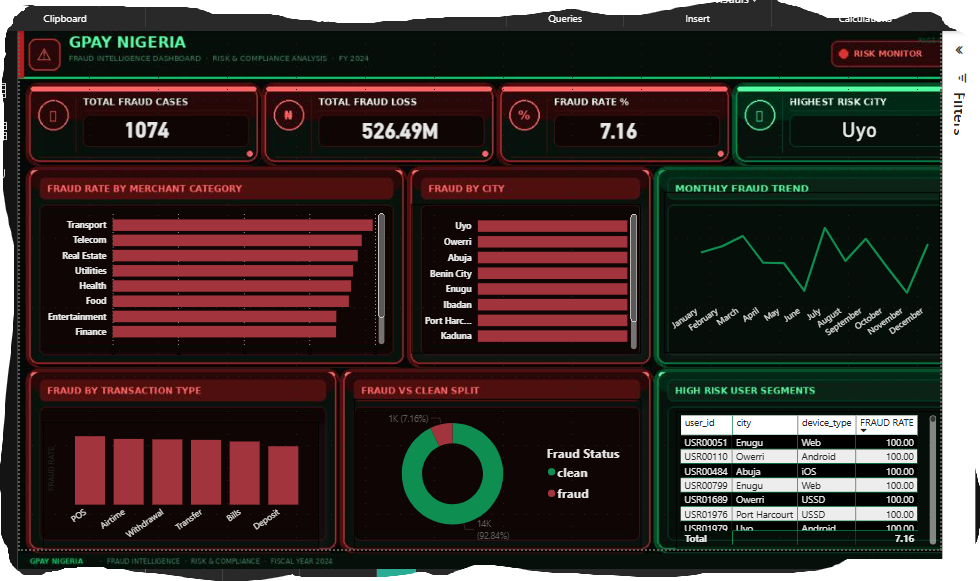

Layout of this report page (visuals, bound fields, positions):
{"tool":"powerbi","page":{"name":"Page 2","canvas":[1280,720],"ordinal":1},"visuals":[{"type":"card","fields":{"Values":["transactions_s.TOTAL FRAUD LOSS"]},"box":[384,112,288,48],"z":0},{"type":"card","fields":{"Values":["transactions_s.FRAUD RATE"]},"box":[688,112,288,48],"z":1},{"type":"clusteredBarChart","fields":{"Category":["transactions_s.merchant_category"],"Y":["transactions_s.FRAUD RATE"]},"box":[32,240,480,224],"z":2},{"type":"clusteredColumnChart","fields":{"Y":["transactions_s.FRAUD RATE"],"Category":["transactions_s.transaction_type"]},"box":[32,544,384,176],"z":4},{"type":"lineChart","fields":{"Category":["DATE TABLE.MONTH NAME"],"Y":["transactions_s.TOTAL FRAUD LOSS"]},"box":[896,224,384,224],"z":5},{"type":"card","fields":{"Values":["transactions_s.TOTAL FRAUD CASES"]},"box":[32,96,288,80],"z":6},{"type":"hundredPercentStackedBarChart","fields":{"Y":["transactions_s.TOTAL FRAUD CASES"],"Category":["users_s.city"]},"box":[544,240,320,208],"z":7},{"type":"donutChart","fields":{"Category":["fraud flags.fraud_status"],"Y":["transactions_s.TOTAL TRANSACTIONS"]},"box":[464,512,400,208],"z":9},{"type":"tableEx","fields":{"Values":["users_s.user_id","users_s.city","users_s.device_type","transactions_s.FRAUD RATE"]},"box":[912,528,368,192],"z":10},{"type":"card","fields":{"Values":["transactions_s.top fraud city"]},"box":[1056,96,224,80],"z":11}]}

Visuals, with their boxes on the page's 1280x720 design canvas (x1, y1, x2, y2). These are canvas units, not pixel positions in the 980x581 screenshot, which may show the page scaled, cropped or inside an application window:
card - transactions_s.TOTAL FRAUD LOSS: [left=384, top=112, right=672, bottom=160]
card - transactions_s.FRAUD RATE: [left=688, top=112, right=976, bottom=160]
clusteredBarChart - transactions_s.merchant_category x transactions_s.FRAUD RATE: [left=32, top=240, right=512, bottom=464]
clusteredColumnChart - transactions_s.FRAUD RATE x transactions_s.transaction_type: [left=32, top=544, right=416, bottom=720]
lineChart - DATE TABLE.MONTH NAME x transactions_s.TOTAL FRAUD LOSS: [left=896, top=224, right=1280, bottom=448]
card - transactions_s.TOTAL FRAUD CASES: [left=32, top=96, right=320, bottom=176]
hundredPercentStackedBarChart - transactions_s.TOTAL FRAUD CASES x users_s.city: [left=544, top=240, right=864, bottom=448]
donutChart - fraud flags.fraud_status x transactions_s.TOTAL TRANSACTIONS: [left=464, top=512, right=864, bottom=720]
tableEx - users_s.user_id x users_s.city: [left=912, top=528, right=1280, bottom=720]
card - transactions_s.top fraud city: [left=1056, top=96, right=1280, bottom=176]
